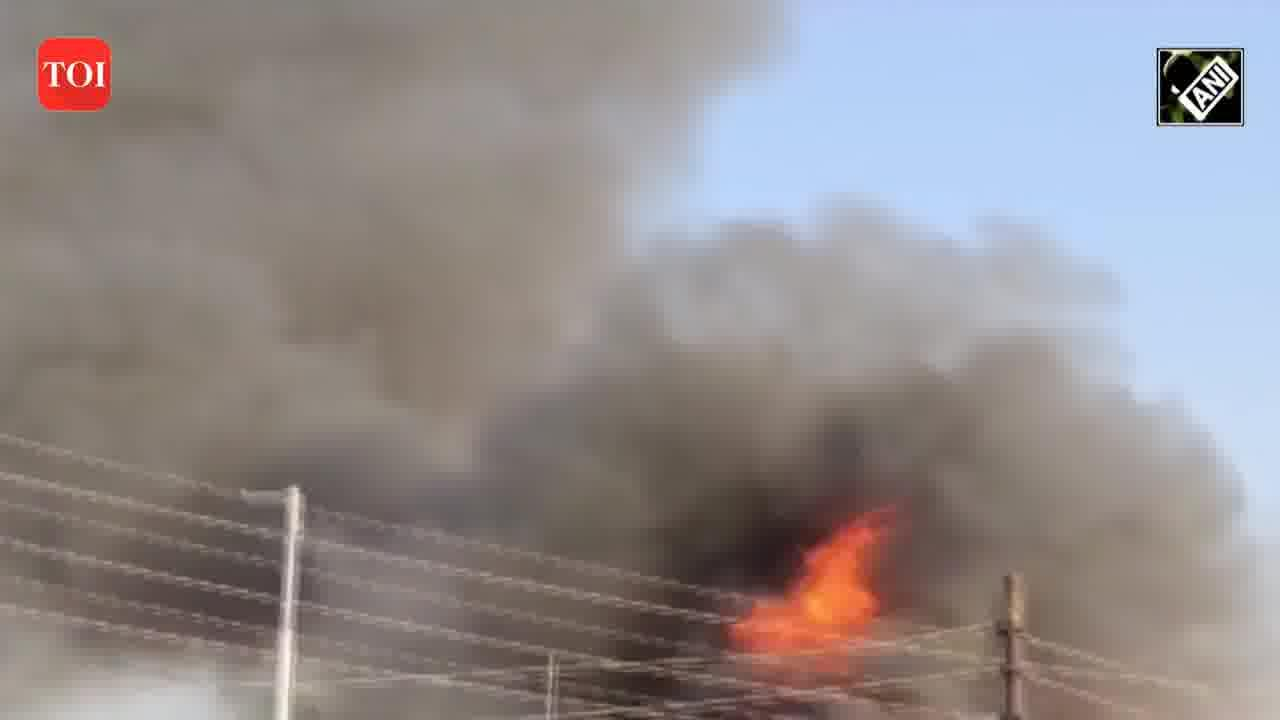fire: (720, 511, 900, 667)
smoke: (1, 3, 578, 442)
